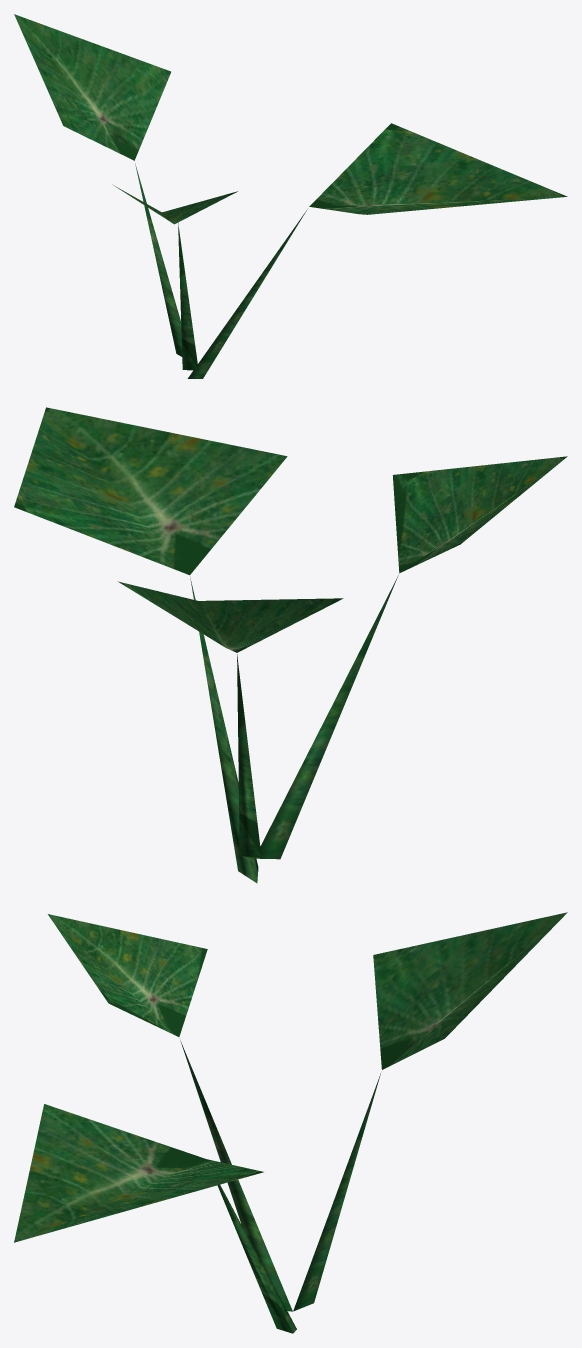
Rendered from leaf_giantpalm_sm_l3.fbx.
3 renders of one model, top to bottom at view 1: azimuth 30°, elevation 25°; view 2: azimuth 150°, elevation 25°; view 3: azimuth 270°, elevation 25°, orthographic. The views are drawn at different scales.
Visible parts, largest first — view 1: mesh_node; view 2: mesh_node; view 3: mesh_node.
Part boxes in pixels (x1=…): mesh_node: x1=14, y1=14, x2=567, y2=378; mesh_node: x1=14, y1=407, x2=567, y2=883; mesh_node: x1=14, y1=912, x2=567, y2=1333.
Bounding box in the file's own units: 2.97 × 2.17 × 2.88.
